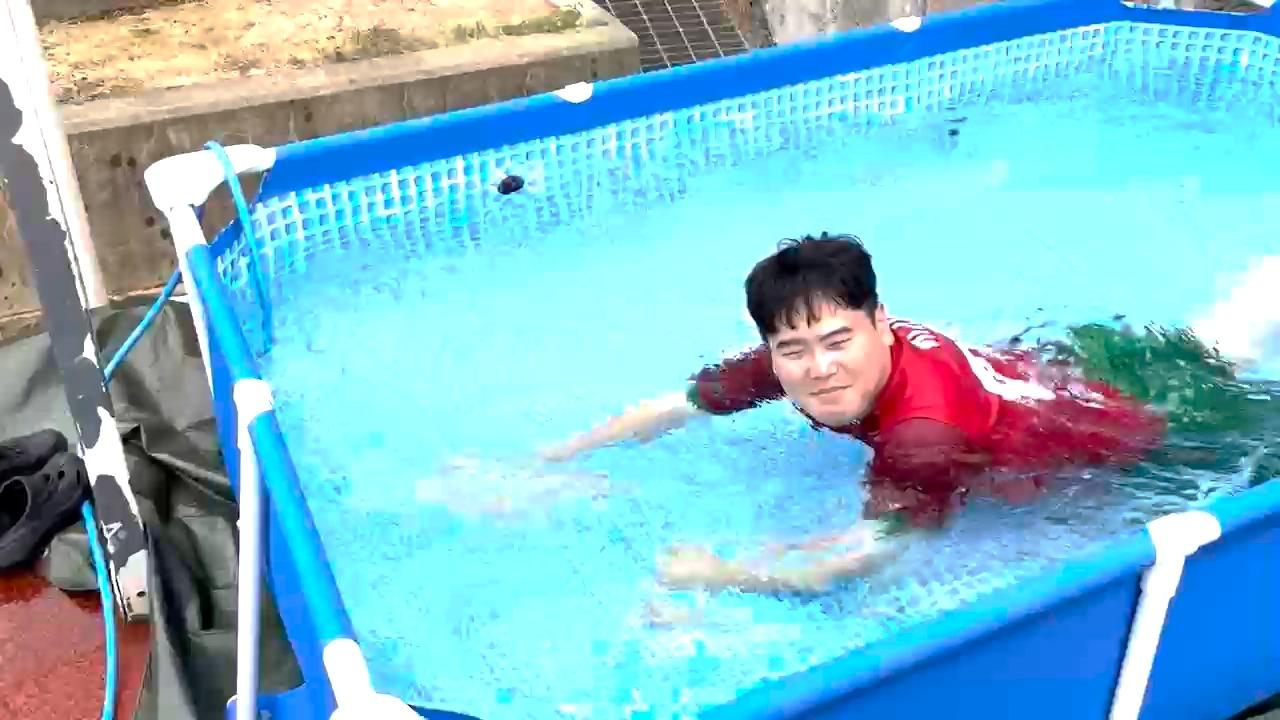Swimming: (471, 235, 1280, 609)
